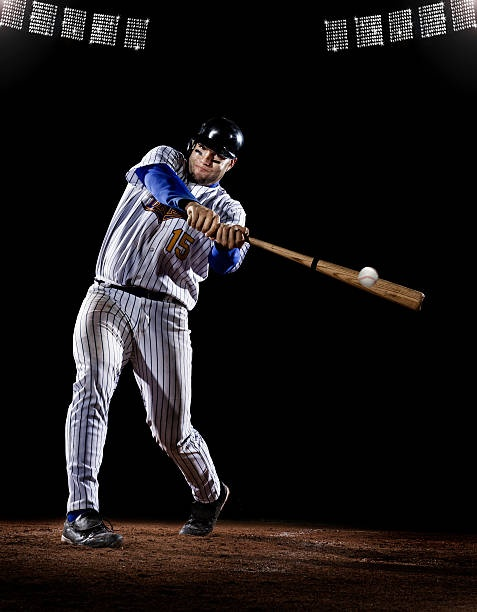bita: (221, 231, 439, 311)
